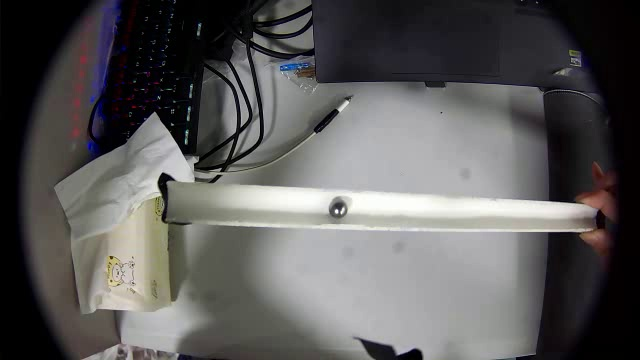gangzhu: (328, 197, 350, 220)
